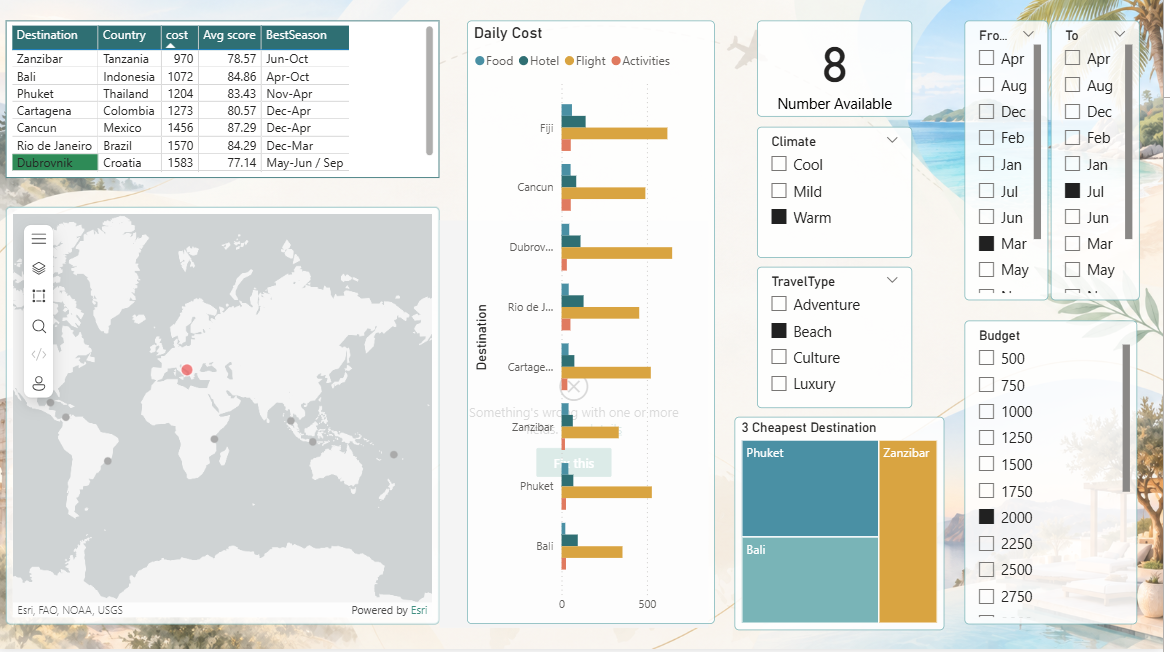

What the dashboard file says about the page in this screenshot:
{"tool":"powerbi","page":{"name":"Page 1","canvas":[1280,720],"ordinal":0},"visuals":[{"type":"slicer","fields":{"Values":["Table.Climate"]},"box":[834.3,146.8,170.2,144.1],"z":0},{"type":"slicer","fields":{"Values":["destina.PrimaryTravelType"]},"box":[834.3,300.5,170.2,155.1],"z":1000},{"type":"slicer","fields":{"Values":["Budget_USDD.Value"]},"box":[1062.1,359.5,189.4,333.4],"z":2000},{"type":"tableEx","fields":{"Values":["Sheet1.Destination","Sheet1.Country","DAX.cost","DAX.average score","Sheet1.BestSeason"]},"box":[9.6,30.2,476.2,172.9],"z":3000},{"type":"esriVisual","fields":{"Latitude":["Sheet1.Latitude"],"Longitude":["Sheet1.Longitude"],"Location":["Sheet1.Country"],"Color":["DAX.color of max rating"]},"box":[9.6,234.6,476.2,458.3],"z":4000},{"type":"treemap","title":"3 Cheapest Destination","fields":{"Group":["Sheet1.Destination"],"Values":["DAX.top33"]},"box":[809.6,465.2,230.5,234.6],"z":5000},{"type":"slicer","fields":{"Values":["MonthTable.Month"]},"box":[1062.1,30.2,91.9,307.4],"z":6000},{"type":"slicer","fields":{"Values":["MonthTable2.Month"]},"box":[1156.8,30.2,97.4,307.4],"z":7000},{"type":"clusteredBarChart","fields":{"Y":["Sum(table number_available.DailyFood_USD)","Sum(table number_available.DailyActivities_USD)","Sum(table number_available.AvgHotelPerNight_USD)","Sum(table number_available.EstimatedFlight_USD)"],"Category":["table number_available.Destination"]},"box":[485.8,249.7,295,447.3],"z":8000},{"type":"clusteredBarChart","title":"Daily Cost","fields":{"Category":["Sheet1.Destination"],"Y":["Sum(Sheet1.DailyFood_USD)","Sum(Sheet1.AvgHotelPerNight_USD)","Sum(Sheet1.EstimatedFlight_USD)","Sum(Sheet1.DailyActivities_USD)"]},"box":[516,30.2,271.7,662.8],"z":9000},{"type":"card","fields":{"Values":["DAX.Number Available"]},"box":[834.3,30.2,170.2,105.7],"z":10000}]}

Visuals, with their boxes in screenshot pixels (x1, y1, x2, y2), scaled from the page's 1280x720 canvas onto the 1170x652 screenshot:
slicer - Table.Climate: (x1=763, y1=133, x2=918, y2=263)
slicer - destina.PrimaryTravelType: (x1=763, y1=272, x2=918, y2=413)
slicer - Budget_USDD.Value: (x1=971, y1=326, x2=1144, y2=627)
tableEx - Sheet1.Destination x Sheet1.Country: (x1=9, y1=27, x2=444, y2=184)
esriVisual - Sheet1.Latitude x Sheet1.Longitude: (x1=9, y1=212, x2=444, y2=627)
"3 Cheapest Destination" treemap: (x1=740, y1=421, x2=951, y2=634)
slicer - MonthTable.Month: (x1=971, y1=27, x2=1055, y2=306)
slicer - MonthTable2.Month: (x1=1057, y1=27, x2=1146, y2=306)
clusteredBarChart - Sum(table number_available.DailyFood_USD) x Sum(table number_available.DailyActivities_USD): (x1=444, y1=226, x2=714, y2=631)
"Daily Cost" clusteredBarChart: (x1=472, y1=27, x2=720, y2=628)
card - DAX.Number Available: (x1=763, y1=27, x2=918, y2=123)
